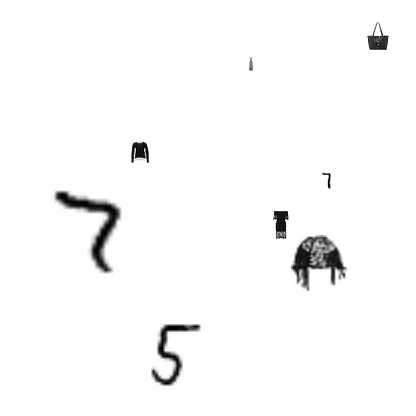5: (128, 307, 212, 391)
7: (36, 164, 148, 276), (317, 168, 339, 190)
Bag: (291, 235, 347, 291), (364, 22, 392, 50)
Dress: (267, 211, 295, 239), (244, 57, 258, 71)
Shirt: (129, 141, 151, 163)
